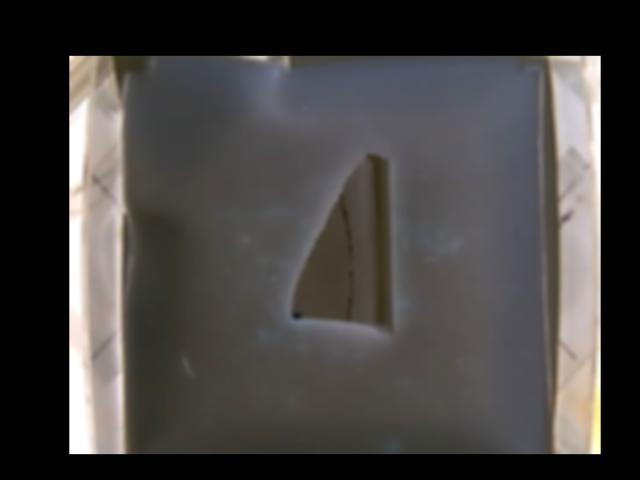China: (288, 152, 393, 333)
